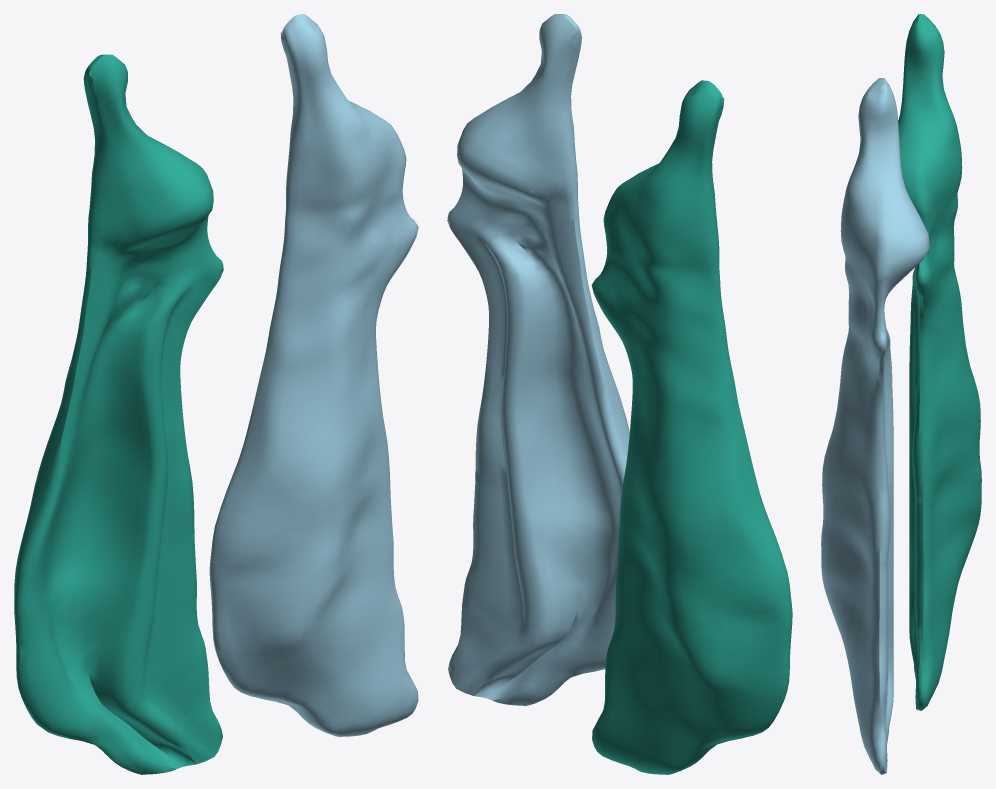
3 renders of one model, left to right at view 1: azimuth 30°, elevation 25°; view 2: azimuth 150°, elevation 25°; view 3: azimuth 270°, elevation 25°, orthographic. The views are drawn at different scales.
Visible parts, largest first — view 1: Object_2.001, Object_2; view 2: Object_2.001, Object_2; view 3: Object_2, Object_2.001.
Boxes of the visible parts, <box> form: Object_2.001: <box>14,54,223,774</box>; Object_2: <box>209,14,418,736</box>; Object_2.001: <box>591,80,792,774</box>; Object_2: <box>447,14,629,705</box>; Object_2: <box>821,78,930,774</box>; Object_2.001: <box>898,14,981,710</box>.
Bounding box in the file's own units: 0.5322 × 1 × 0.2189.
